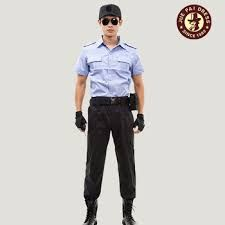uniform: (83, 40, 138, 207)
